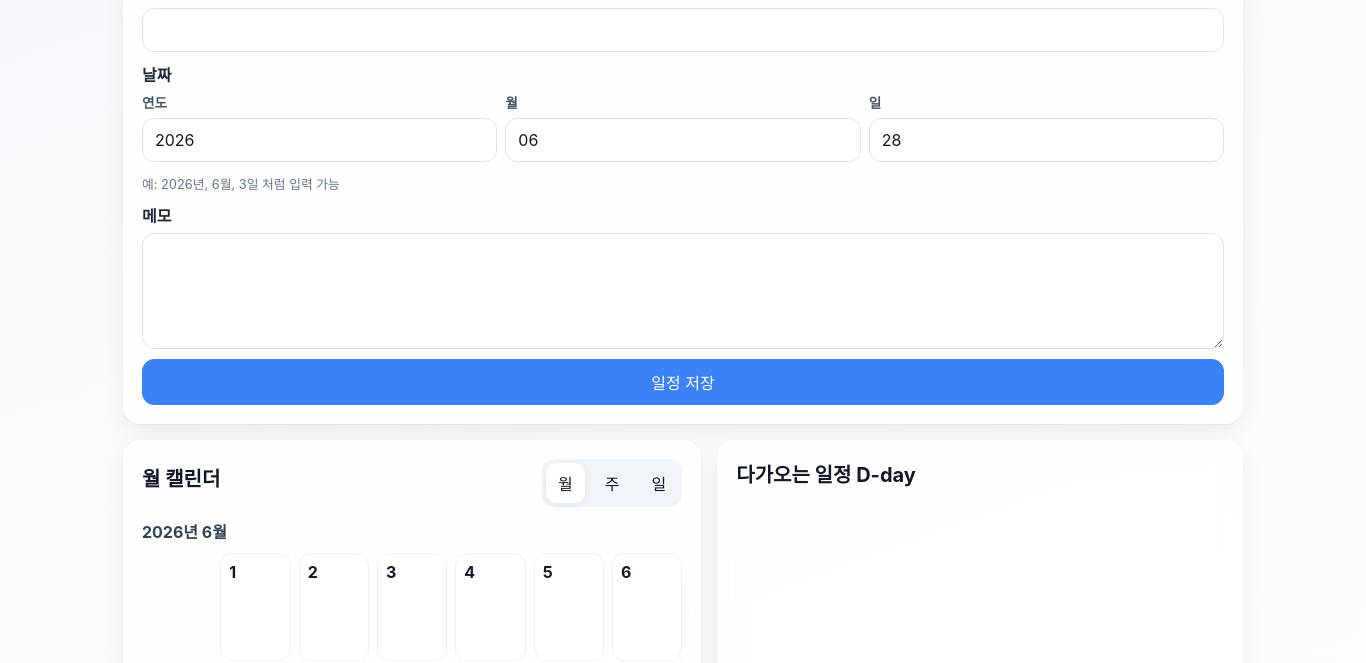
App › preserves validation and status announcement behavior
(page scrolled)
Click the button "일정 저장".
click(683, 382)  # box x1=142 y1=359 x2=1224 y2=405
(page scrolled)
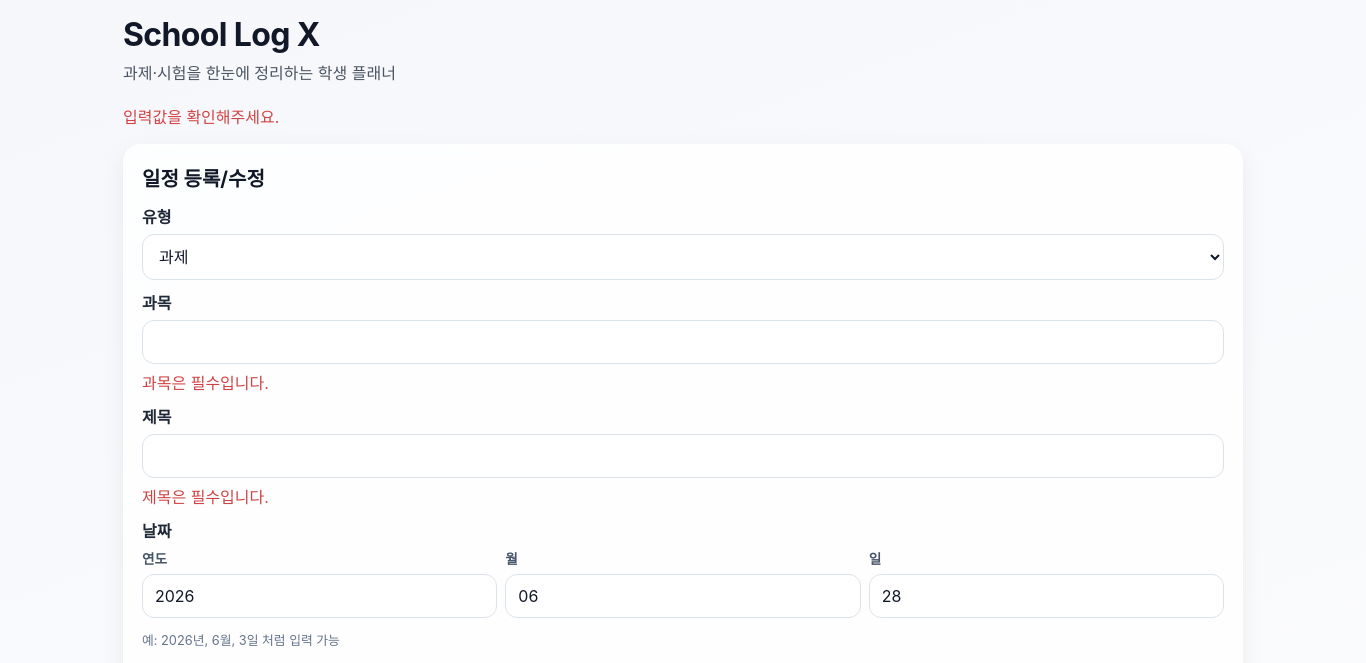
Expected: the message "입력값을 확인해주세요." is shown, x1=123 y1=107 x2=279 y2=127
Expected: the text "과목은 필수입니다." is shown, x1=142 y1=373 x2=269 y2=393
